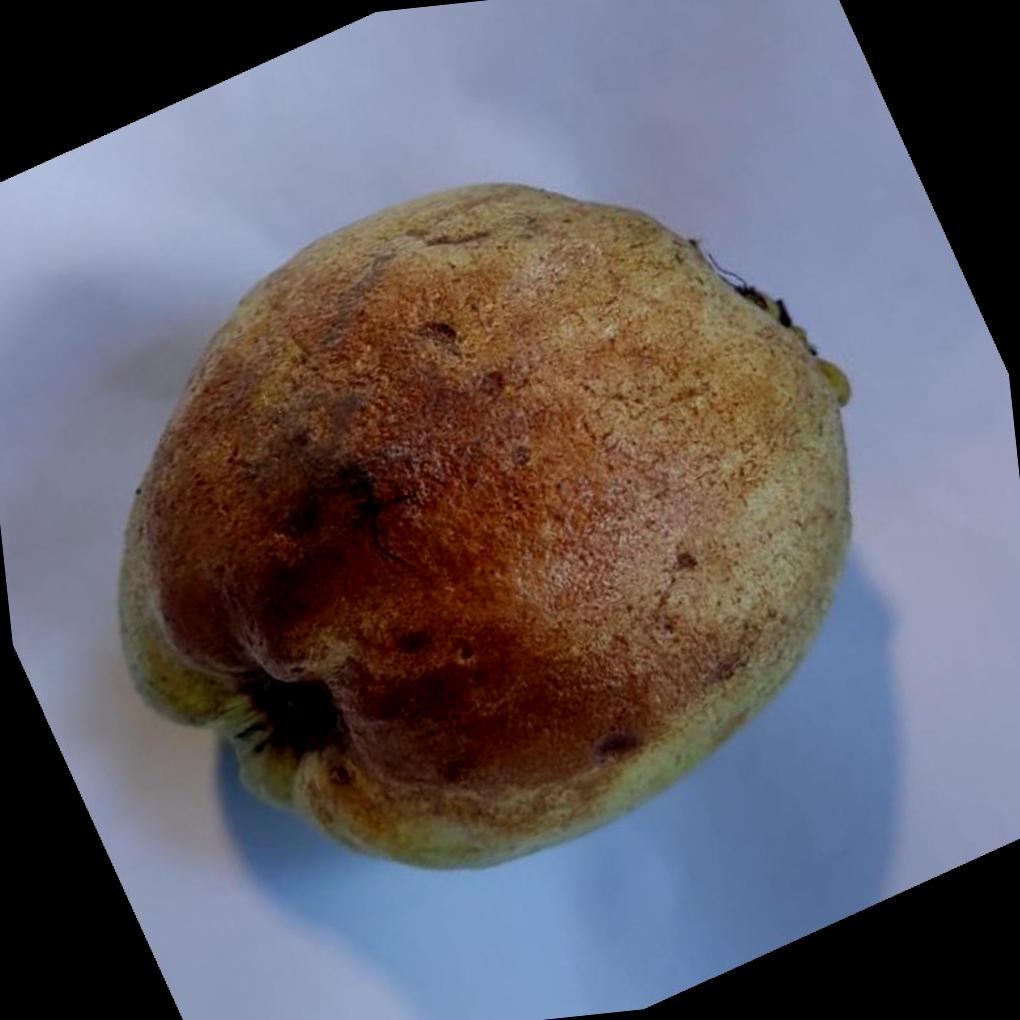FreshOrange: (112, 180, 848, 872)
